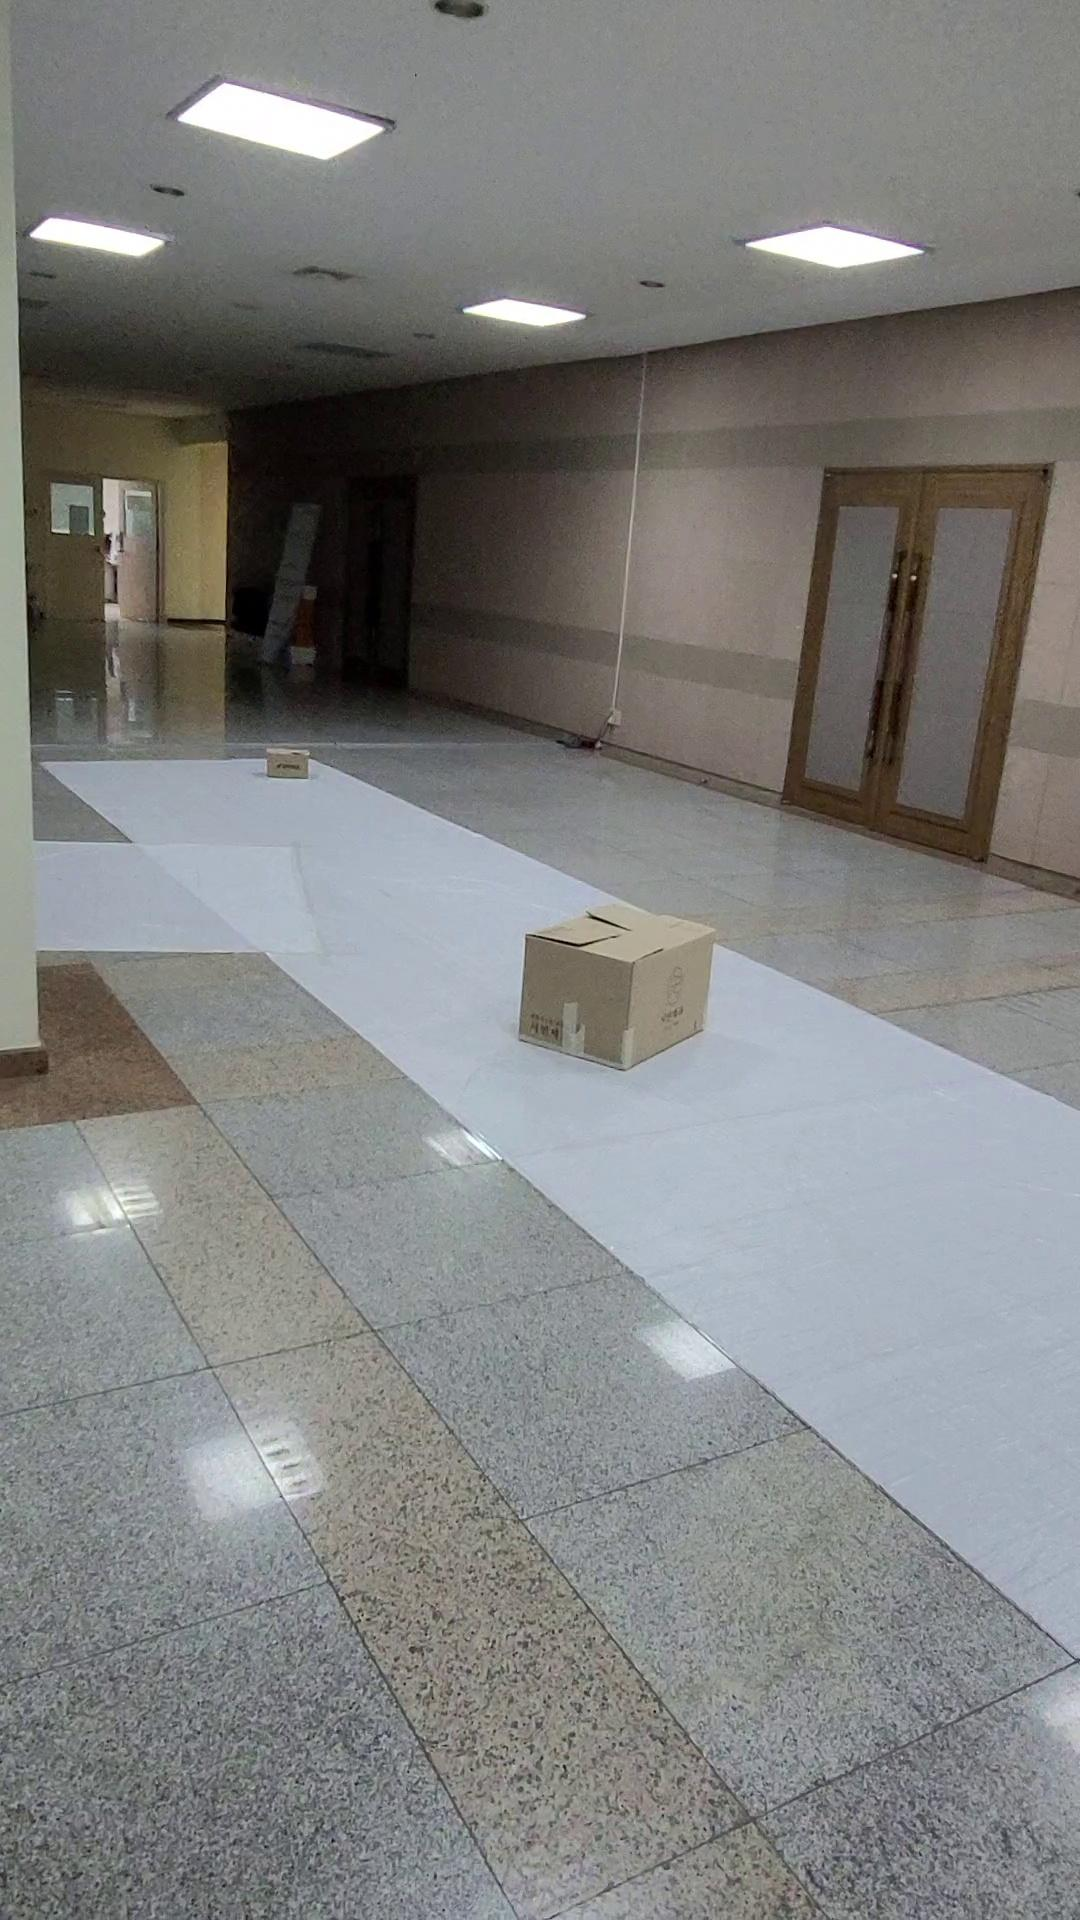Box: (477, 853, 749, 1116), (231, 717, 345, 828)
